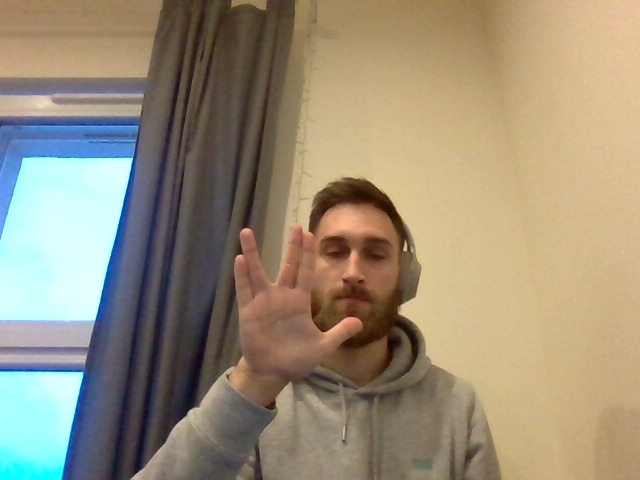LiveLong: (234, 223, 362, 376)
